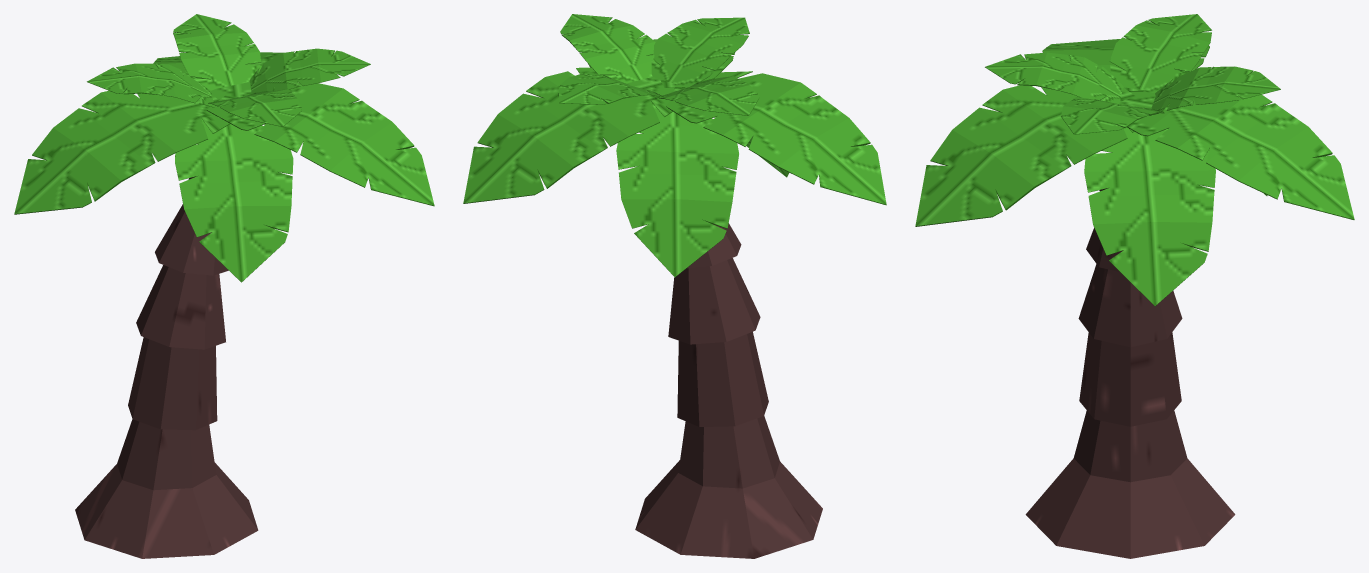
The model's file is Palmera.fbx.
The picture shows the model from 3 angles, left to right: view 1: azimuth 30°, elevation 25°; view 2: azimuth 150°, elevation 25°; view 3: azimuth 270°, elevation 25°; orthographic projection. The views are drawn at different scales.
Parts seen in each view (by area): view 1: Cylinder; view 2: Cylinder; view 3: Cylinder.
Part boxes in pixels (x1,y1,x2,y2): Cylinder: (14, 14, 434, 558); Cylinder: (463, 14, 886, 558); Cylinder: (915, 14, 1354, 558).
Bounding box in the file's own units: 775 × 765 × 921.
Materials: 1 (1 with a texture image).
